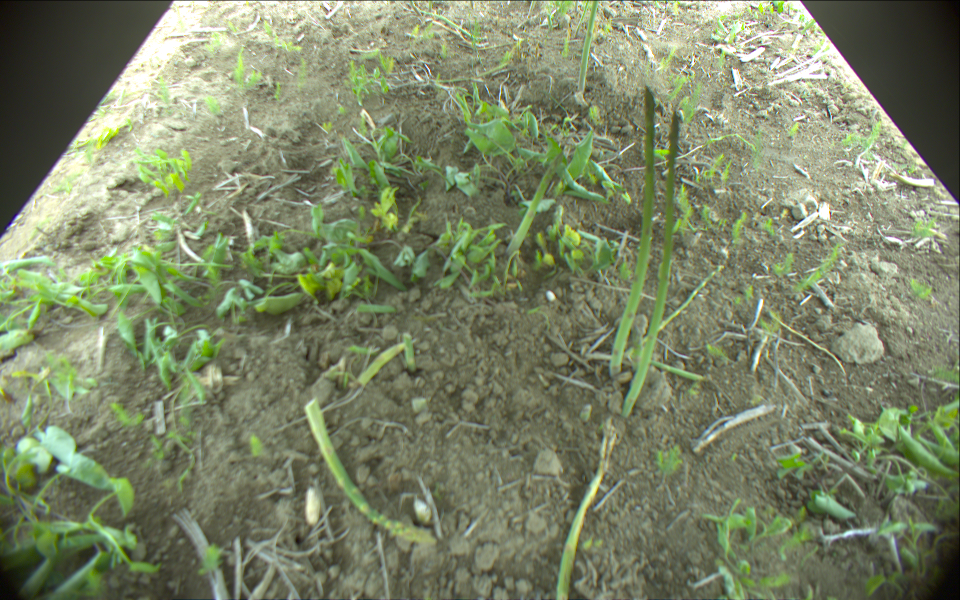aspa: (305, 396, 434, 540), (624, 112, 678, 419), (609, 84, 655, 379), (556, 429, 613, 600), (626, 268, 721, 359), (508, 148, 565, 257), (358, 333, 419, 388), (411, 1, 489, 40), (580, 1, 596, 92), (401, 332, 415, 366), (576, 1, 589, 37)
